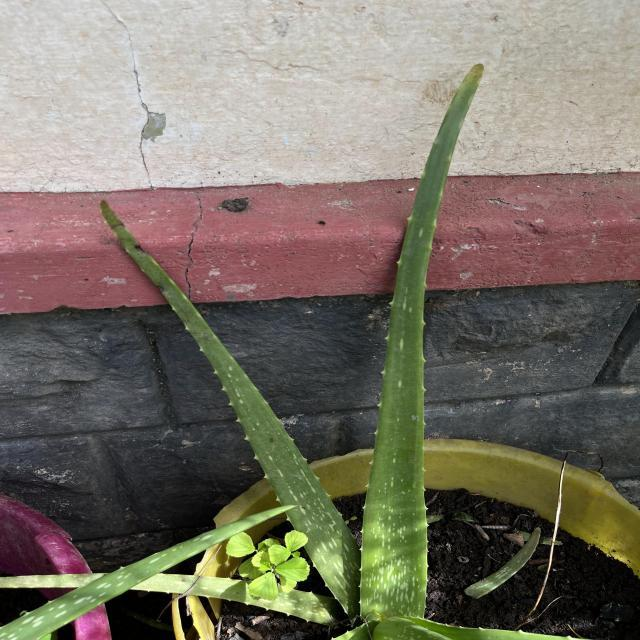Aloe vera: (354, 58, 498, 620)
